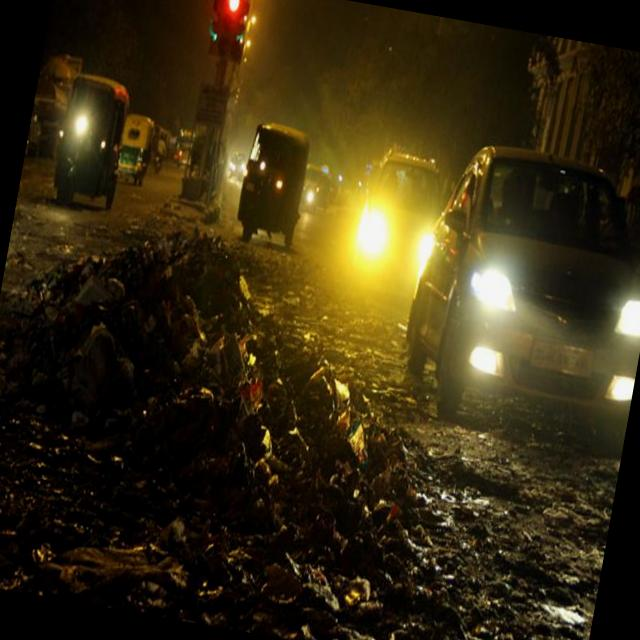garbage: (0, 200, 419, 637)
